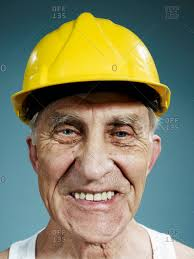Person_wearing_helmet: (13, 6, 183, 158)
